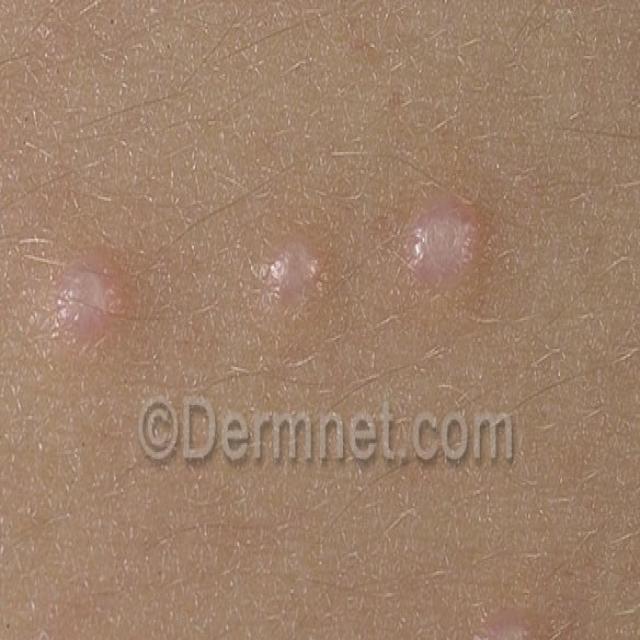Viral Infections: (25, 213, 147, 375), (247, 212, 358, 357), (402, 178, 504, 294), (453, 593, 563, 640)
